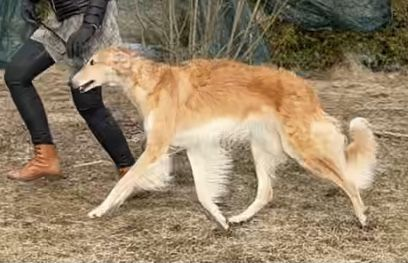borzoi: (66, 41, 387, 233)
